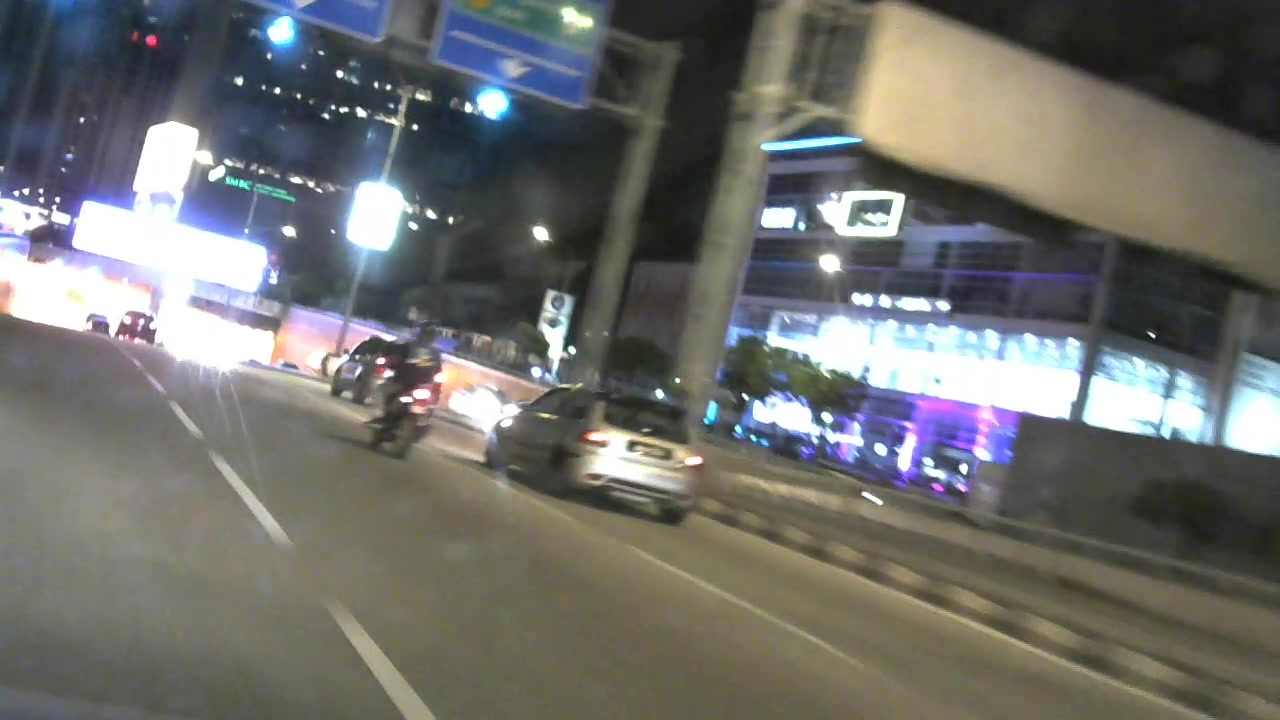Car: (476, 367, 710, 528), (327, 327, 452, 409), (106, 308, 164, 346), (81, 310, 106, 335)
